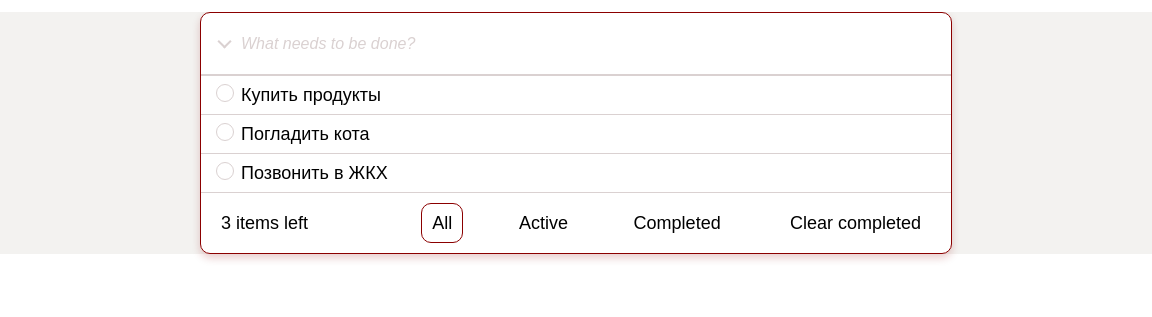
Test: create task
The width and height of the screenshot is (1152, 317).
Type "Новая задача" into the field with placeholder "What needs to be done?" at (594, 44), box [236, 13, 951, 74]
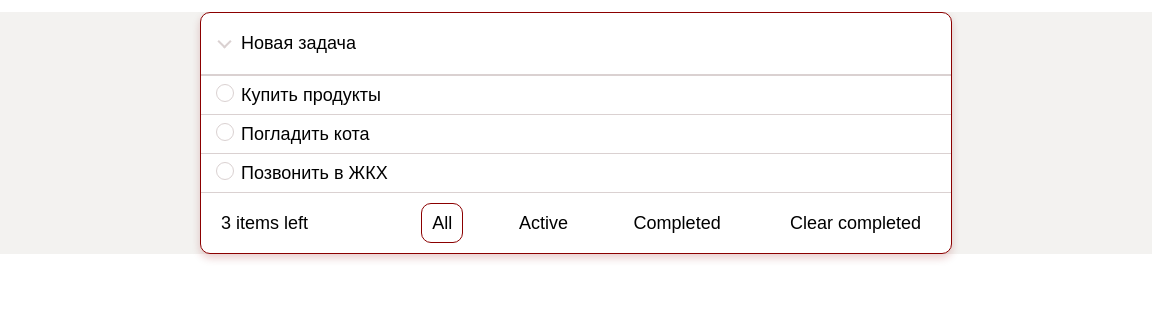
Submit the form with placeholder "what needs to be done", box [201, 13, 951, 193]
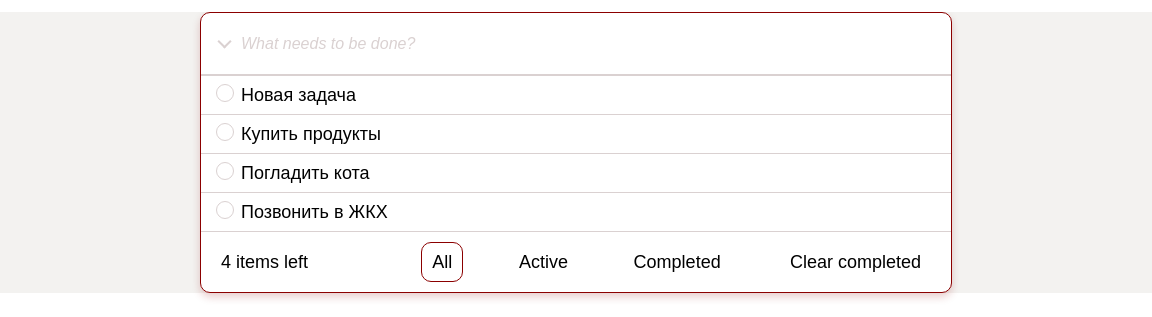
Expected: the list item "Новая задача" is shown, [201, 76, 951, 115]
